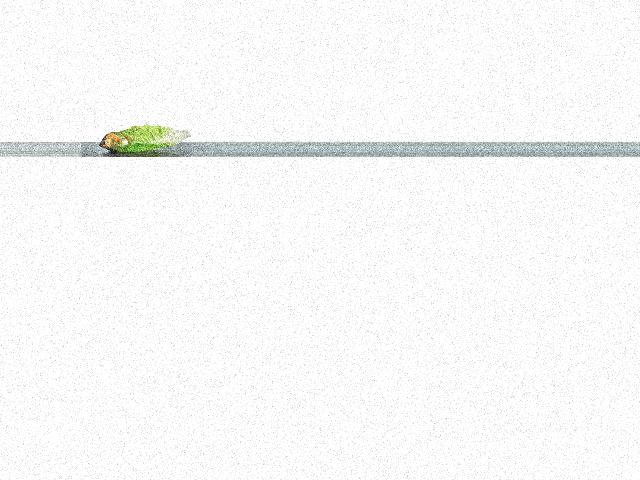lettuce: (95, 121, 192, 157)
